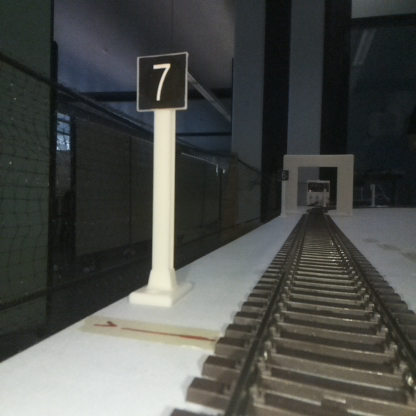black-info-6: (278, 168, 289, 218)
black-info-7: (139, 57, 184, 302)
